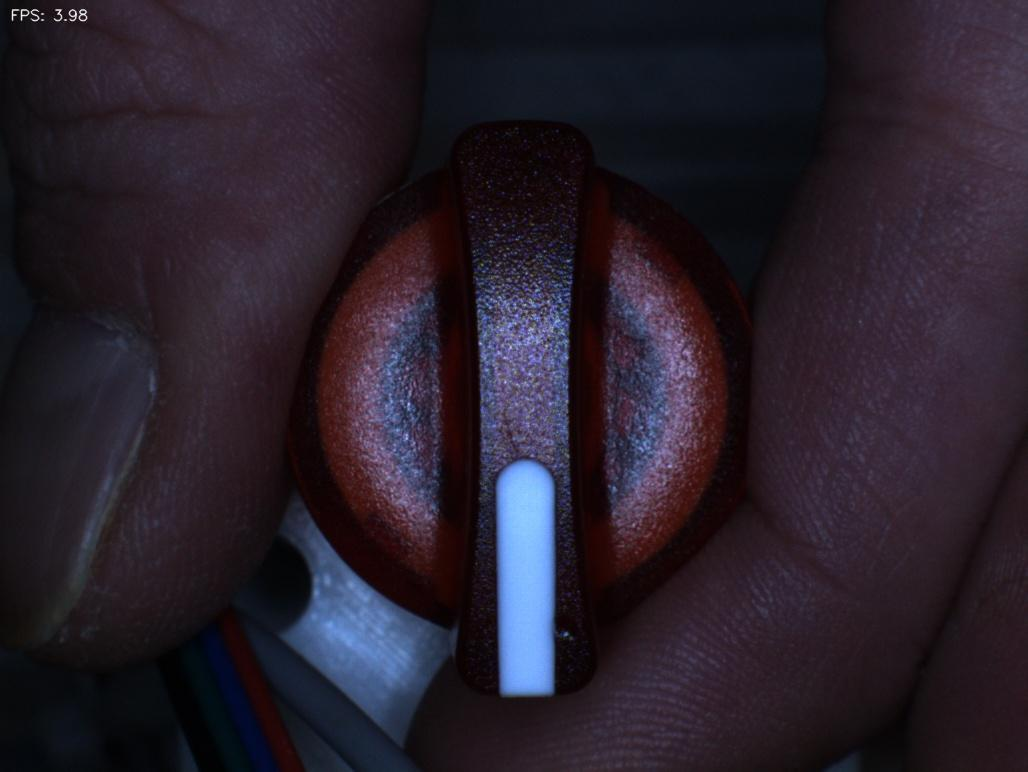Choc: (531, 595, 613, 679)
